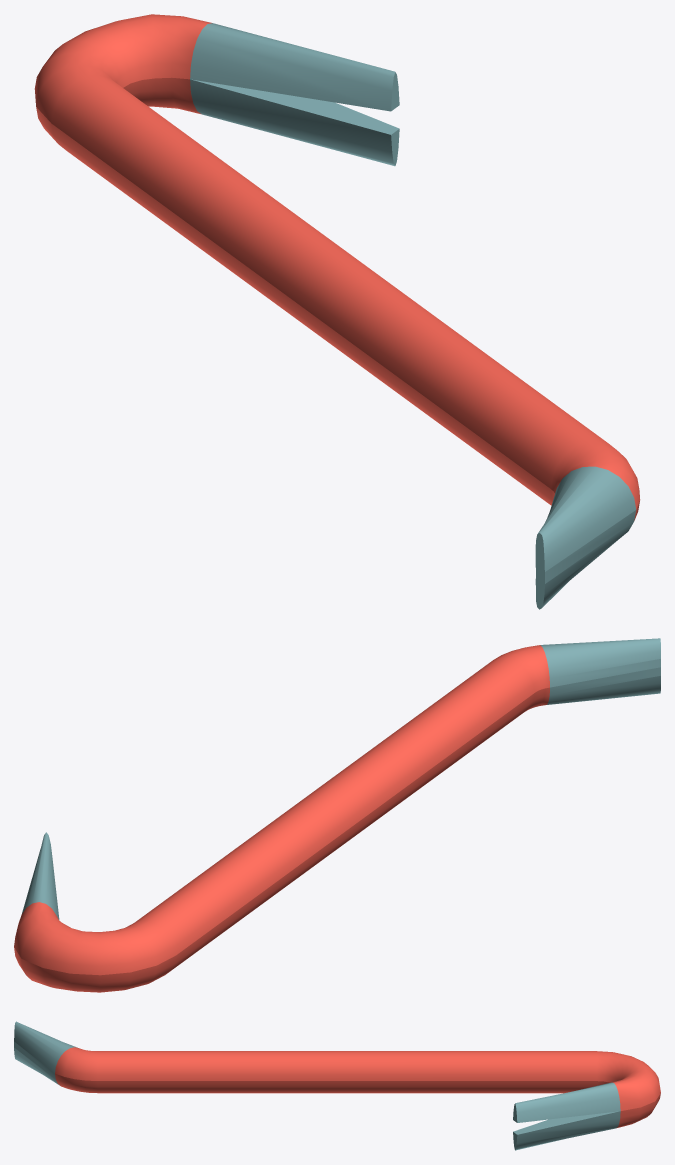
Rendered from Scrap.fbx.
3 renders of one model, top to bottom at view 1: azimuth 30°, elevation 25°; view 2: azimuth 150°, elevation 25°; view 3: azimuth 270°, elevation 25°, orthographic. The views are drawn at different scales.
Parts seen in each view (by area): view 1: Scrap; view 2: Scrap; view 3: Scrap.
Boxes of the visible parts, x1,y1,x2,y2 form: Scrap: [34, 14, 640, 609]; Scrap: [14, 638, 660, 992]; Scrap: [14, 1021, 660, 1150].
Bounding box in the file's own units: 0.5063 × 0.126 × 1.56.
